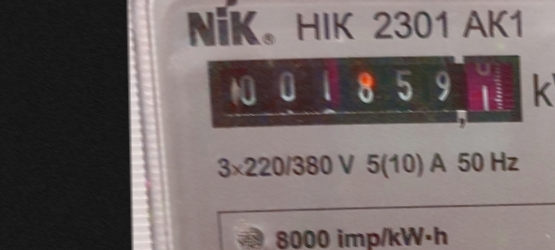0: (237, 71, 257, 107), (277, 68, 297, 102)
1: (320, 66, 332, 102), (478, 81, 491, 112)
5: (394, 66, 414, 102)
8: (355, 69, 375, 104)
9: (432, 67, 452, 102)
screen: (196, 41, 533, 138)
